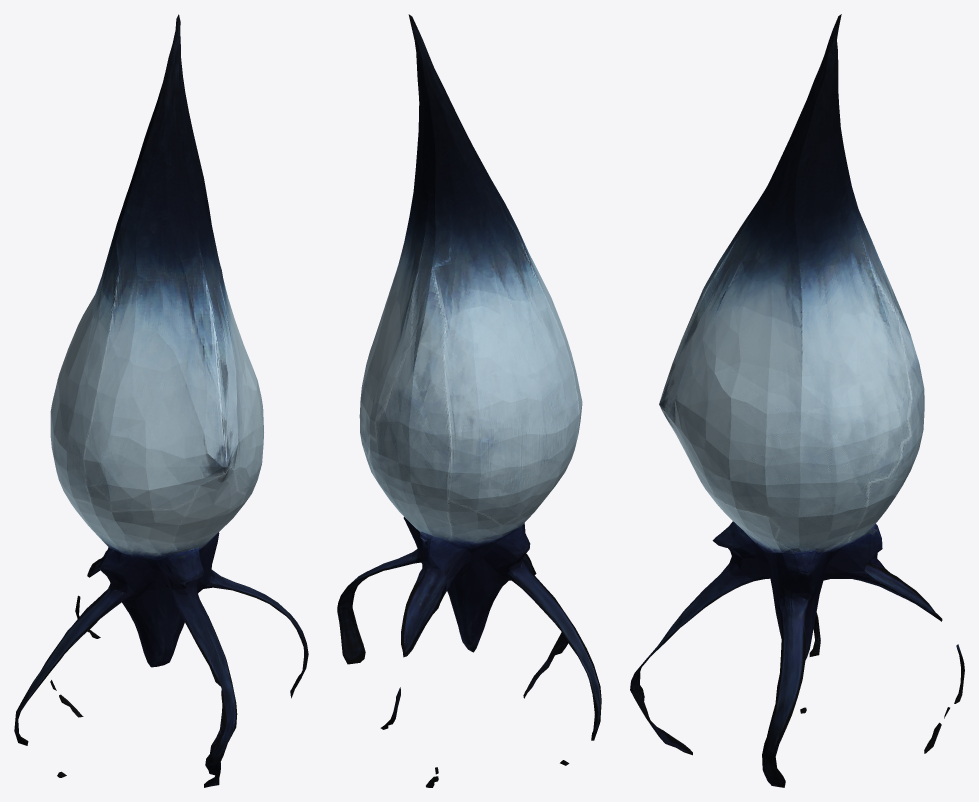
File: wisp.glb
The picture shows the model from 3 angles, left to right: view 1: azimuth 30°, elevation 25°; view 2: azimuth 150°, elevation 25°; view 3: azimuth 270°, elevation 25°; orthographic projection. The views are drawn at different scales.
Visible parts, largest first — view 1: world; view 2: world; view 3: world.
Part boxes in pixels (left/top/right/bottom): world: left=14, top=14, right=308, bottom=787; world: left=337, top=14, right=601, bottom=787; world: left=630, top=14, right=964, bottom=787.
Size of the model in its own units: 0.399 by 0.995 by 0.3921.
Materials: 1 (1 with a texture image).
